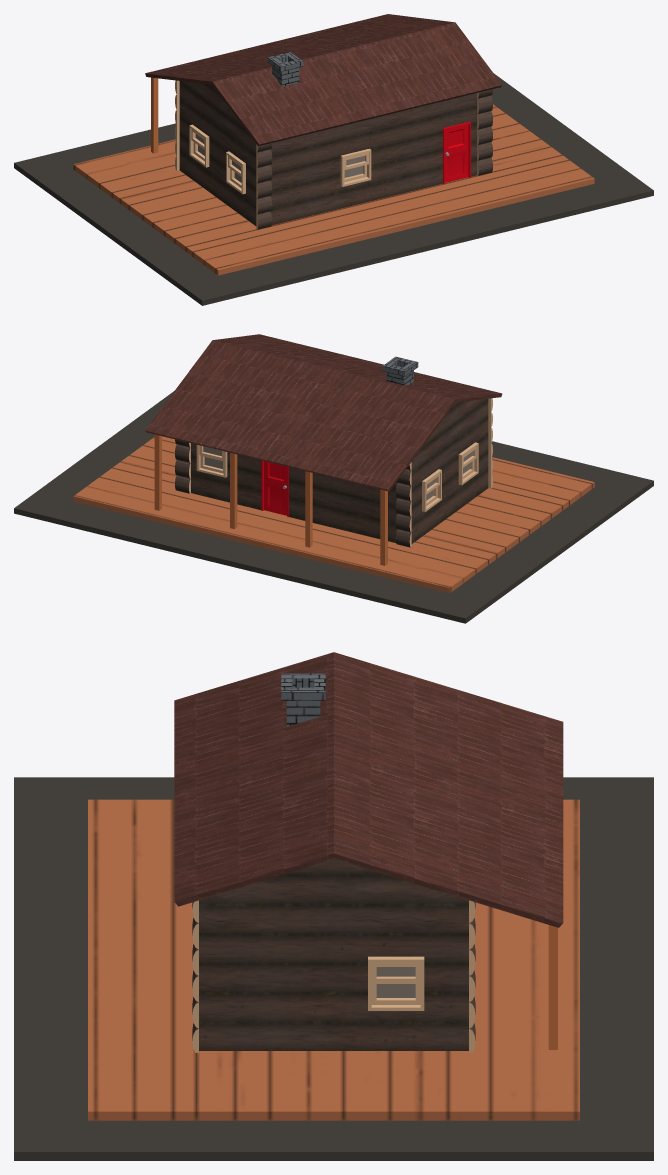
The model's file is WoodHouse3.fbx.
The picture shows the model from 3 angles, top to bottom: view 1: azimuth 30°, elevation 25°; view 2: azimuth 150°, elevation 25°; view 3: azimuth 270°, elevation 25°; orthographic projection. The views are drawn at different scales.
Parts seen in each view (by area): view 1: WoodHouse3; view 2: WoodHouse3; view 3: WoodHouse3.
Part boxes in pixels (x1=…): WoodHouse3: x1=14, y1=14, x2=653, y2=305; WoodHouse3: x1=14, y1=334, x2=653, y2=623; WoodHouse3: x1=14, y1=652, x2=653, y2=1160.
Bounding box in the file's own units: 18 × 5.45 × 13.
1 material, 1 textured.
